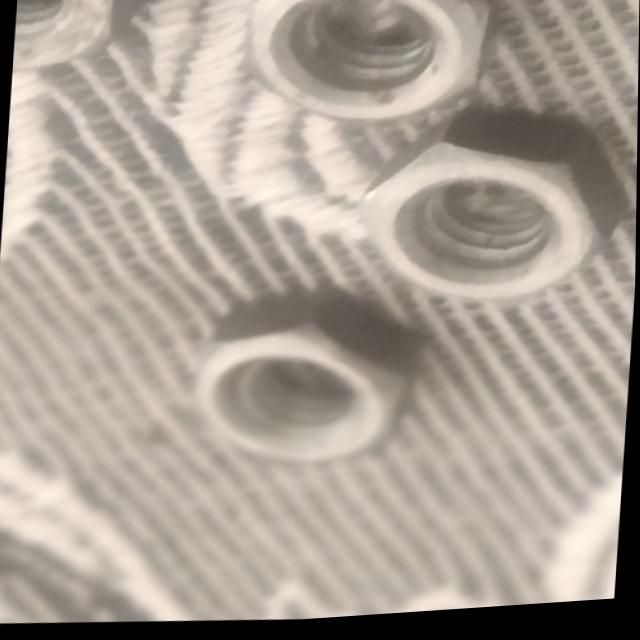disinfected nut: (359, 115, 625, 303), (197, 298, 423, 463), (249, 0, 488, 123), (12, 0, 139, 70)
